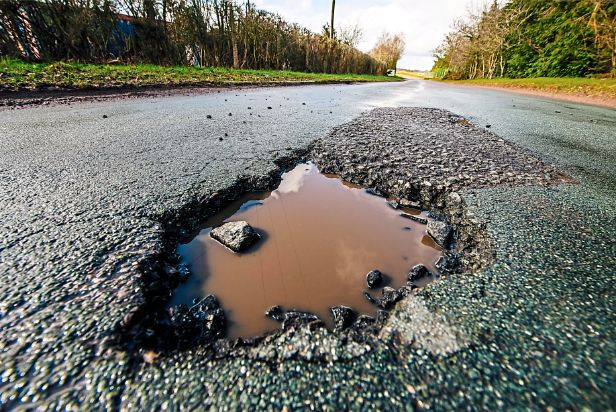pothole: (93, 142, 488, 364)
